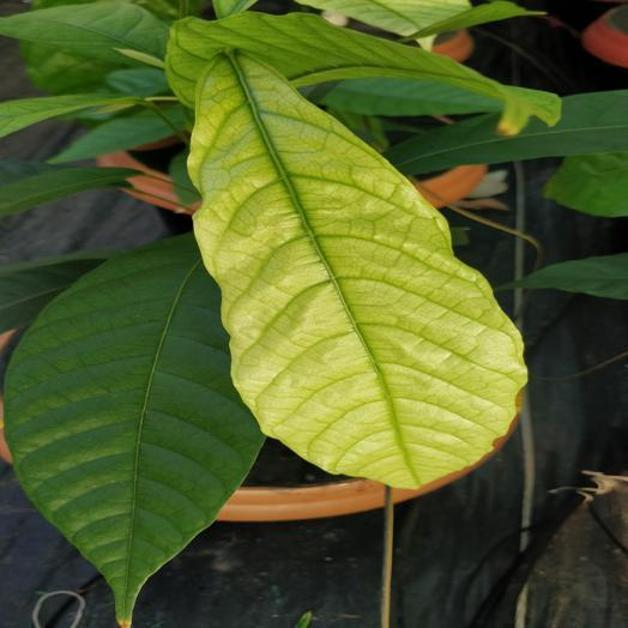Healthy Leaf: (5, 236, 262, 623), (384, 90, 627, 174)
Iron: (188, 51, 526, 487)
